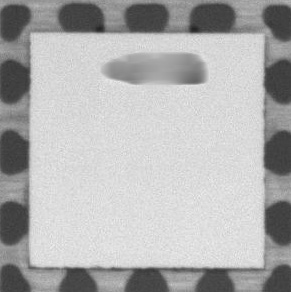DIE_INK: (87, 47, 220, 89)
